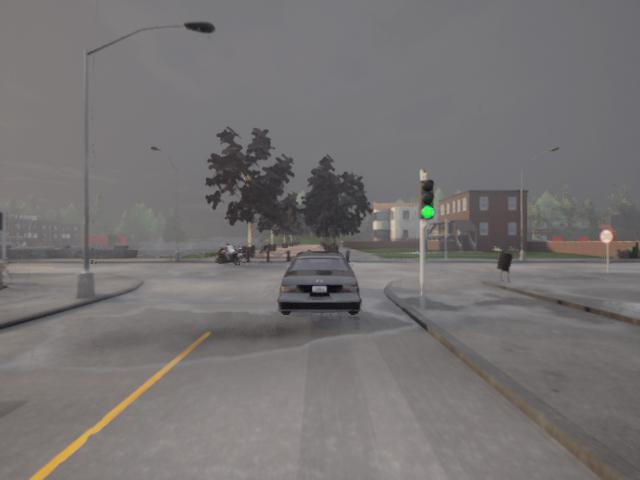3: (420, 178, 436, 218)
9: (277, 253, 362, 316)
motobike: (214, 243, 242, 266)
